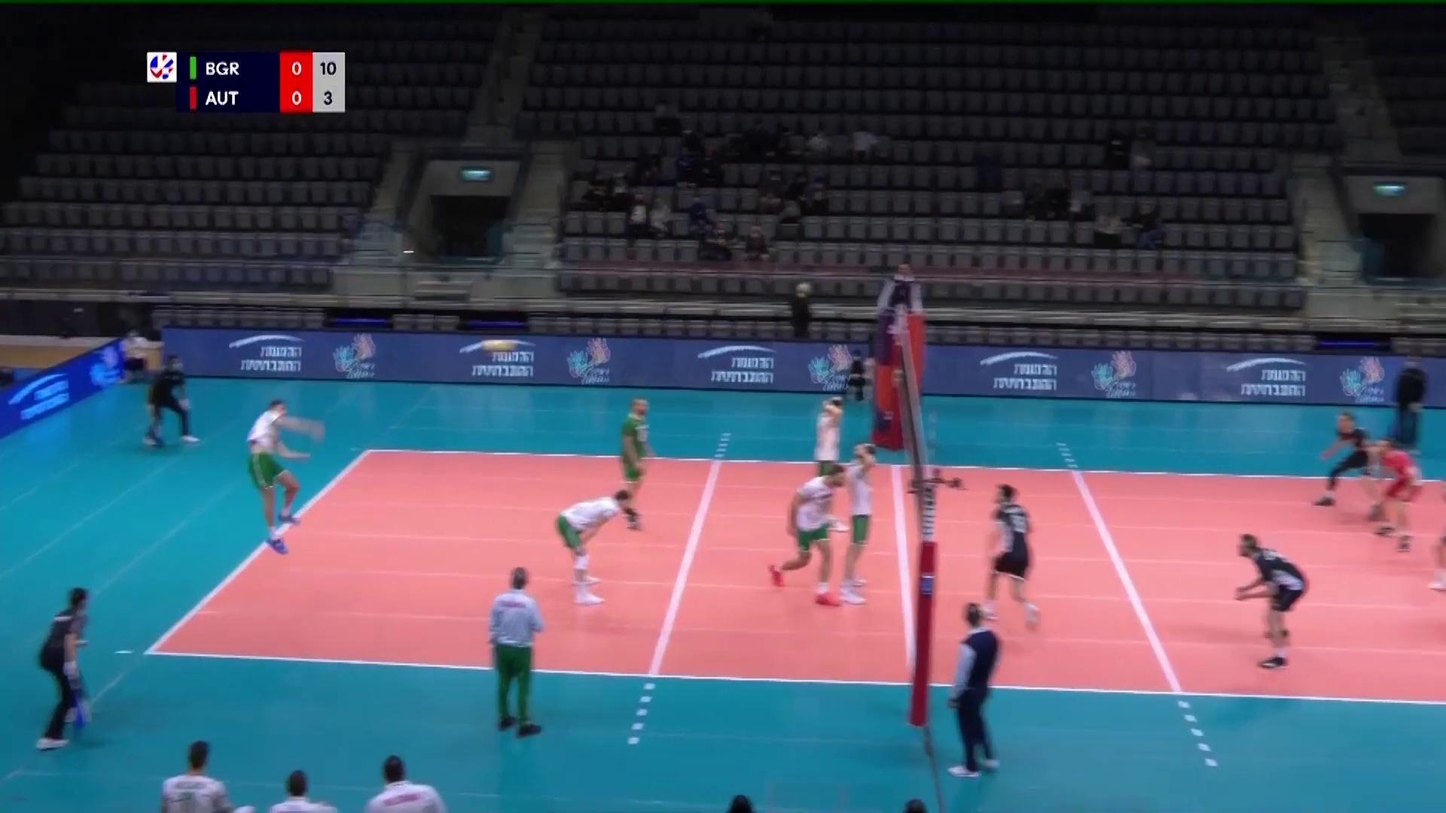ball: (483, 342, 518, 353)
